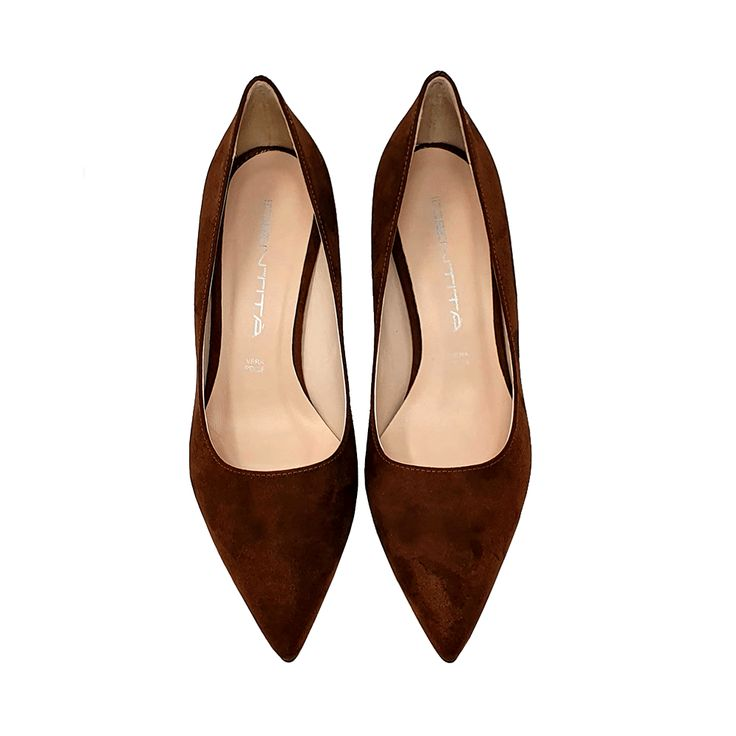gamuza: (188, 70, 531, 661)
